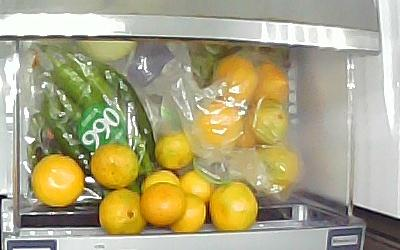tangerine: (31, 155, 84, 205), (212, 181, 259, 232), (98, 190, 145, 236), (92, 144, 138, 188), (141, 183, 186, 227), (156, 132, 195, 170), (175, 193, 206, 233), (181, 171, 216, 203), (140, 169, 182, 192)
tangerine_vinyl: (212, 53, 258, 106), (198, 104, 241, 151), (258, 148, 300, 194), (253, 61, 289, 106), (254, 101, 289, 146), (238, 107, 259, 148)
